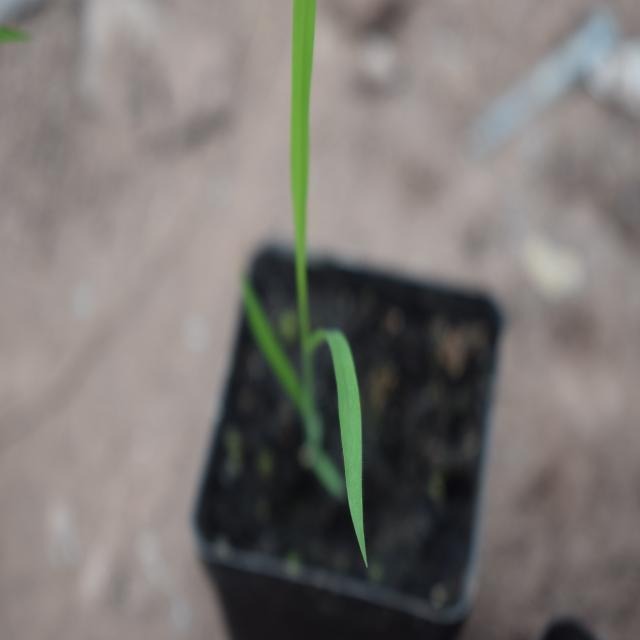crabgrass: (226, 0, 393, 561)
